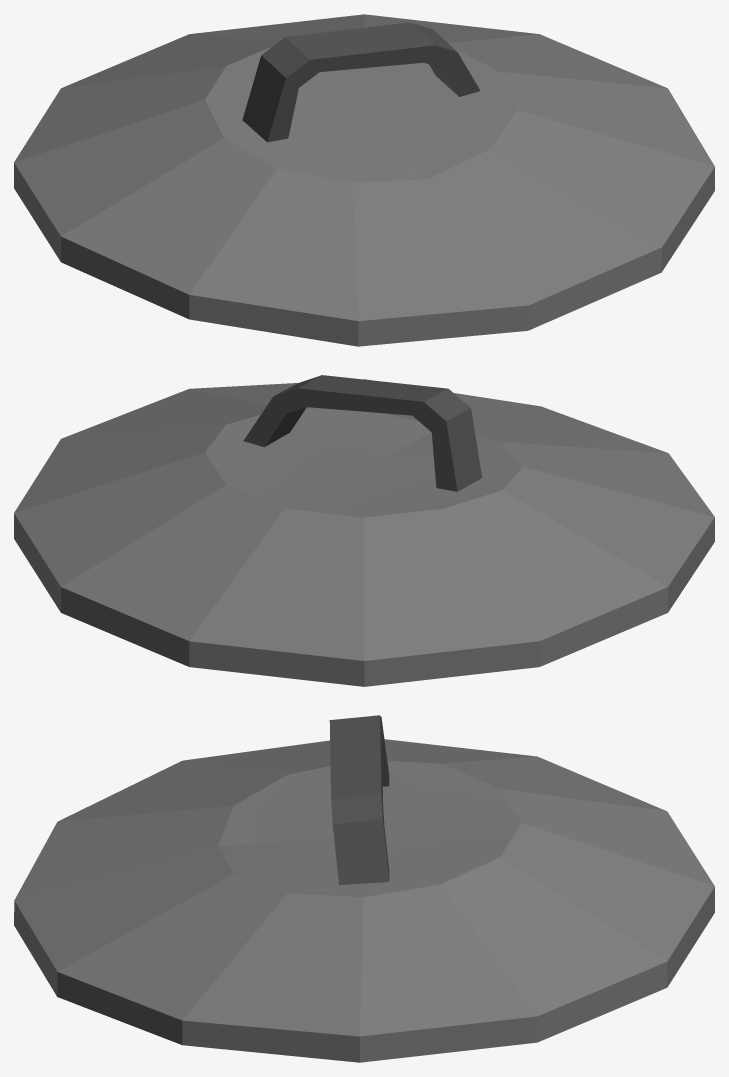
Rendered from SM_Prop_RubbishBin_01_Lid_1296.obj.
The picture shows the model from 3 angles, top to bottom: view 1: azimuth 30°, elevation 25°; view 2: azimuth 150°, elevation 25°; view 3: azimuth 270°, elevation 25°; orthographic projection.
Visible parts, largest first — view 1: SM_Prop_RubbishBin_01_Lid_0; view 2: SM_Prop_RubbishBin_01_Lid_0; view 3: SM_Prop_RubbishBin_01_Lid_0.
Boxes of the visible parts, box(x1,y1,x2,y2) form: SM_Prop_RubbishBin_01_Lid_0: box(14, 14, 714, 346); SM_Prop_RubbishBin_01_Lid_0: box(14, 375, 714, 686); SM_Prop_RubbishBin_01_Lid_0: box(14, 715, 714, 1062).
Bounding box in the file's own units: 0.5793 × 0.1613 × 0.5717.
1 material, 1 textured.
